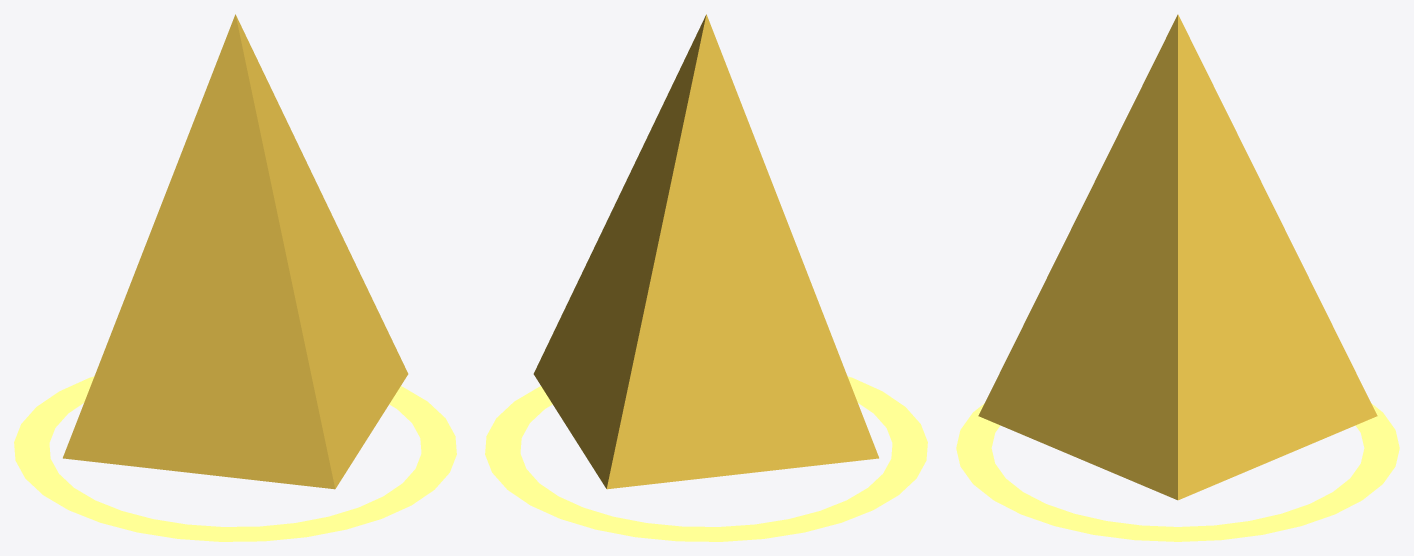
3 views of the same model, side by side, from view 1: azimuth 30°, elevation 25°; view 2: azimuth 150°, elevation 25°; view 3: azimuth 270°, elevation 25° (orthographic).
Visible parts, largest first — view 1: emblem_taller.lod0; view 2: emblem_taller.lod0; view 3: emblem_taller.lod0.
Part boxes in pixels (x1=…): emblem_taller.lod0: x1=14, y1=14, x2=456, y2=541; emblem_taller.lod0: x1=485, y1=14, x2=927, y2=541; emblem_taller.lod0: x1=956, y1=14, x2=1399, y2=541.
Size of the model in its own units: 1 by 1.08 by 1.
